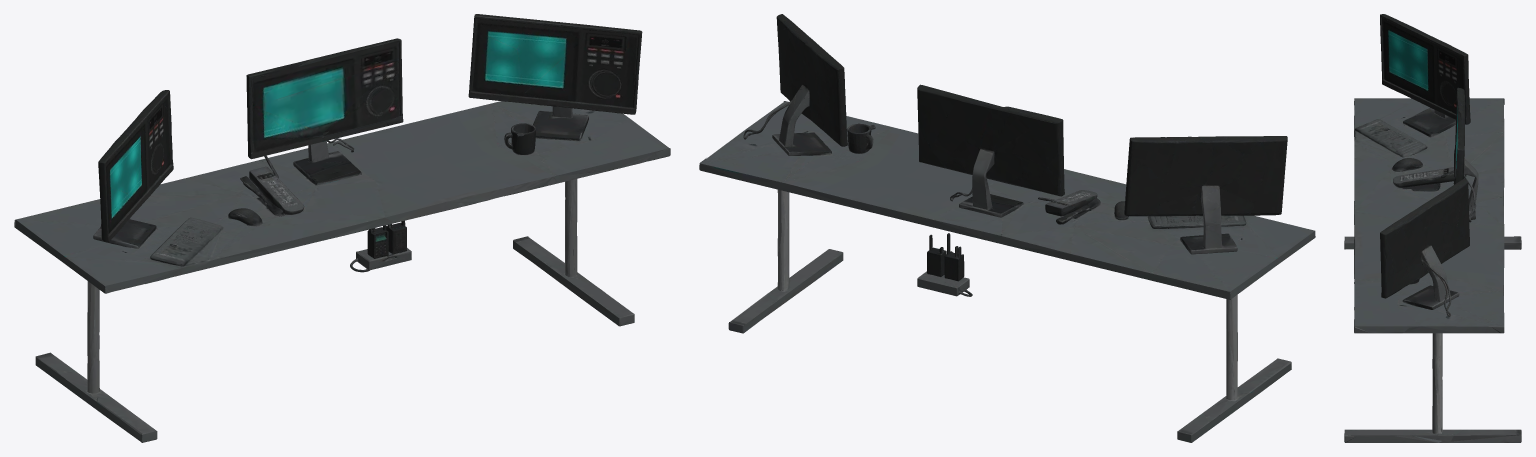
Rendered from segCoord.glb.
3 views of the same model, side by side, from view 1: azimuth 30°, elevation 25°; view 2: azimuth 150°, elevation 25°; view 3: azimuth 270°, elevation 25° (orthographic). The views are drawn at different scales.
Bounding box in the file's own units: 1.9 × 0.888 × 0.6227.
1 material, 1 textured.
